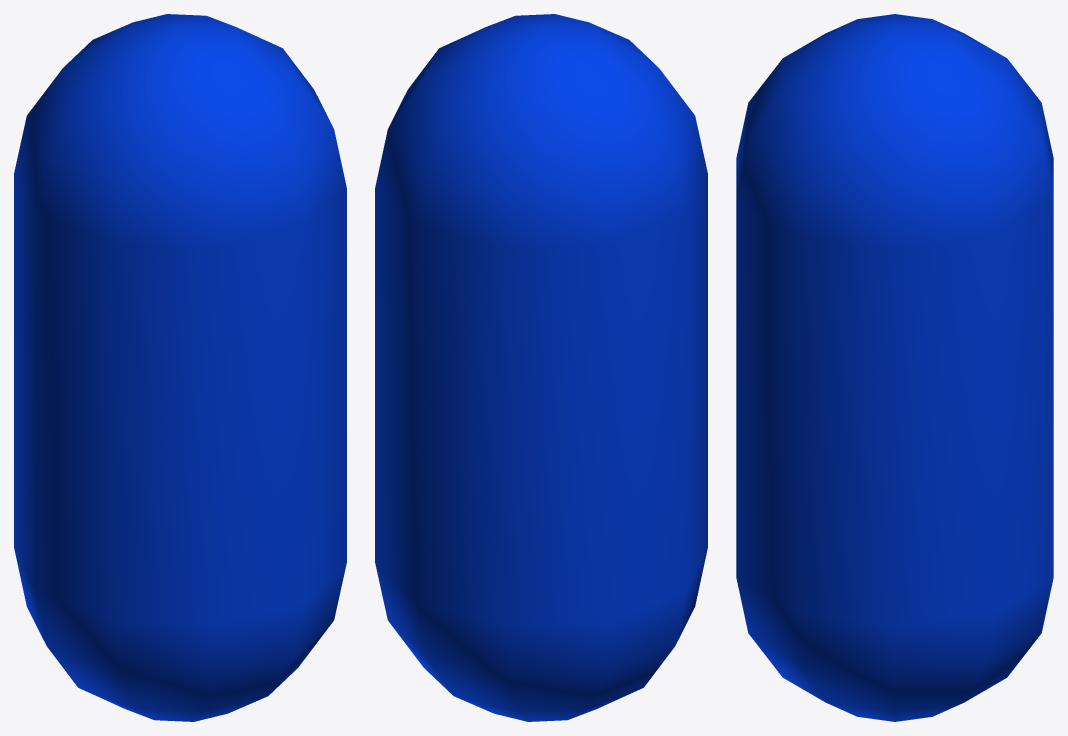
The model's file is pill_v1.fbx.
The picture shows the model from 3 angles, left to right: view 1: azimuth 30°, elevation 25°; view 2: azimuth 150°, elevation 25°; view 3: azimuth 270°, elevation 25°; orthographic projection.
Visible parts, largest first — view 1: pill; view 2: pill; view 3: pill.
Part boxes in pixels (x1=…): pill: x1=14, y1=14, x2=346, y2=721; pill: x1=375, y1=14, x2=707, y2=721; pill: x1=736, y1=14, x2=1053, y2=721.
Bounding box in the file's own units: 1.01 × 2.27 × 0.9646.
